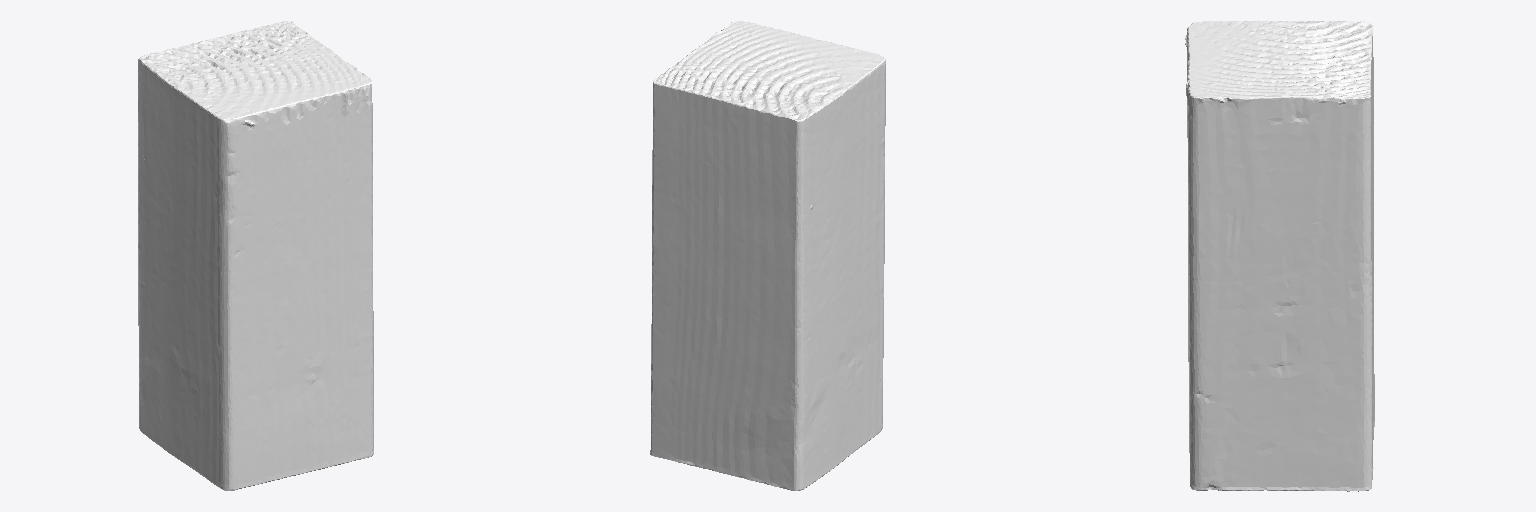
robot.urdf — lemon:
<robot name="lemon">
	<link name="base_link">
		<visual>
			<origin xyz="0.010770493044399379 -0.02101421821337594 -0.026208533597256233" rpy="0.0 0.0 0.0" />
			<geometry>
				<mesh filename="014_lemon/google_16k/textured.obj" scale="1 1 1" />
			</geometry>
			<material name="texture">
				<color rgba="1.0 1.0 1.0 1.0" />
			</material>
		</visual>
		<collision>
			<origin xyz="0.010770493044399379 -0.02101421821337594 -0.026208533597256233" rpy="0.0 0.0 0.0" />
			<geometry>
				<mesh filename="014_lemon/google_16k/textured_vhacd.obj" scale="1 1 1" />
			</geometry>
		</collision>
		<inertial>
			<mass value="0.029" />
			<inertia ixx="1e-3" ixy="0.0" ixz="0.0" iyy="1e-3" iyz="0.0" izz="1e-3" />
		</inertial>
	</link>
</robot>

--- Facts derived from the render (not from the file) ---
Views: 3 orthographic renders of the robot side by side, from view 1: azimuth 30°, elevation 25°; view 2: azimuth 150°, elevation 25°; view 3: azimuth 270°, elevation 25°.
Robot: lemon — 1 links, 0 joints (none); root link base_link; default pose: every joint at zero.
Links seen in each view (by area): view 1: base_link; view 2: base_link; view 3: base_link.
Link boxes in pixels (x1,y1,x2,y2): base_link: (138,21,373,490); base_link: (650,21,885,490); base_link: (1185,20,1374,491).
Size in the robot's own frame: 0.0906 by 0.0899 by 0.206 metres.
Meshes: 1 distinct files referenced, 1 mesh visuals loaded (1 OBJ).